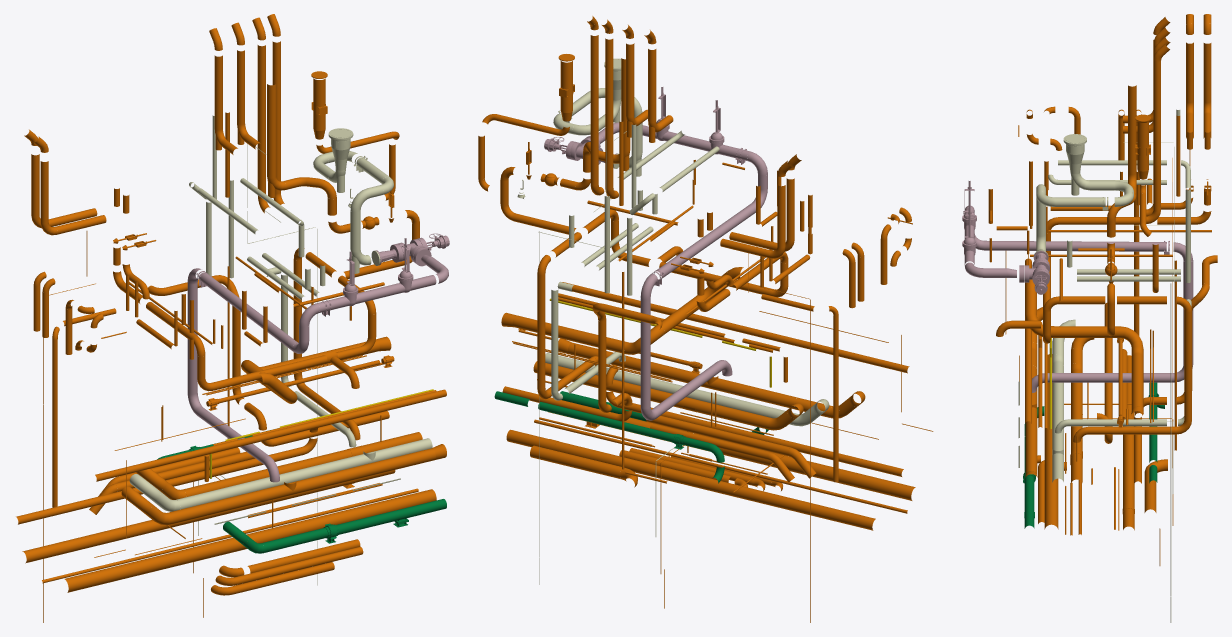
3 renders of one model, left to right at view 1: azimuth 30°, elevation 25°; view 2: azimuth 150°, elevation 25°; view 3: azimuth 270°, elevation 25°, orthographic. The views are drawn at different scales.
Bounding box in the file's own units: 23.13 × 31.96 × 13.28.
